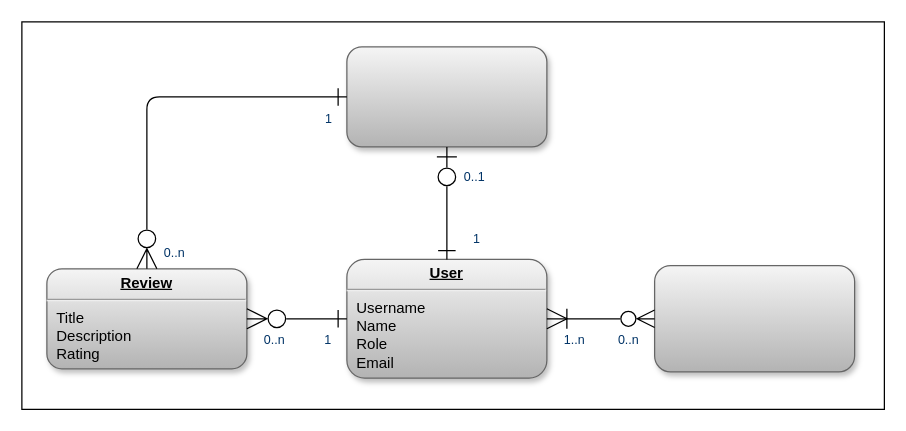
Some shapes in this 906 by 431 pixel diagram are drawn without their labels. Here are the shapes that lost their labels. From the top down, the centre of each, then its label:
(447,98): Shop Name Description Website
(755,320): Room Title Description Link
